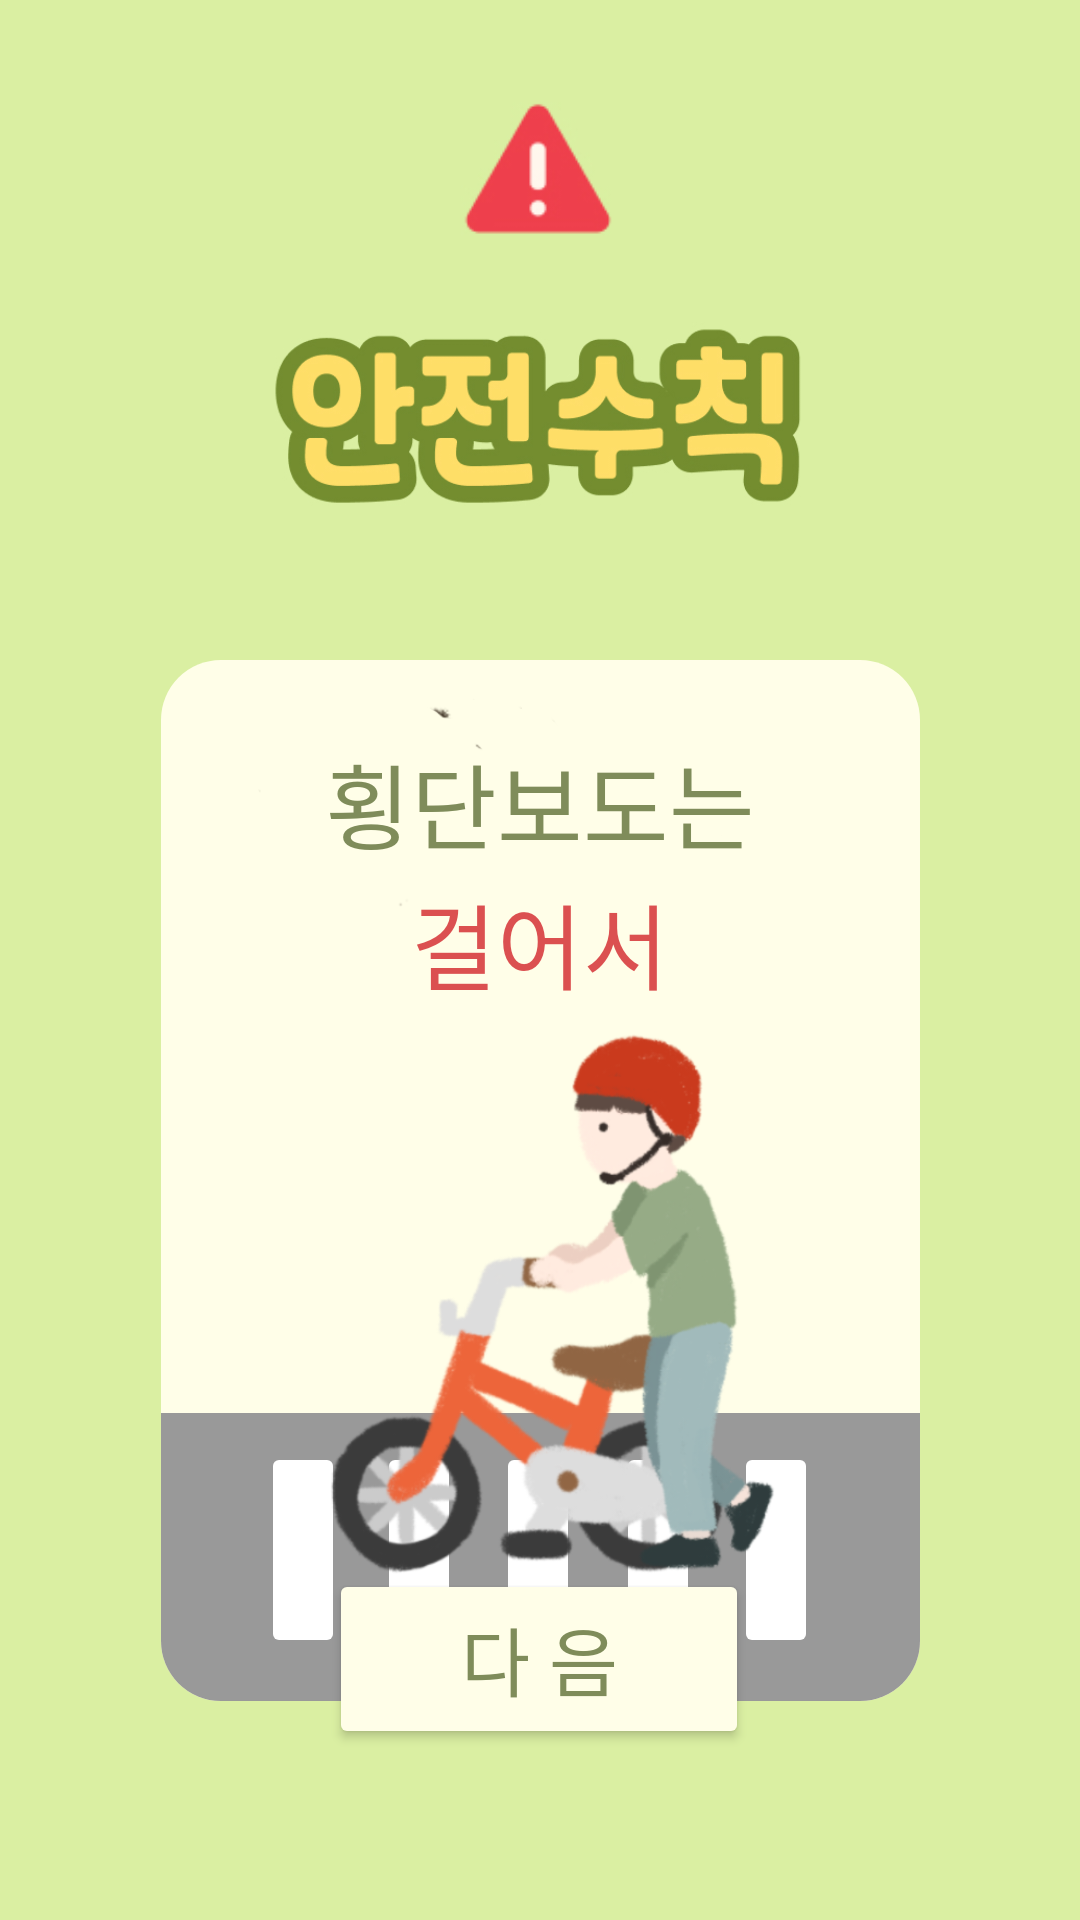

Where to tap for icons on this 1080px x 1920px app screen, as [x,y]:
warning: [538,169]
